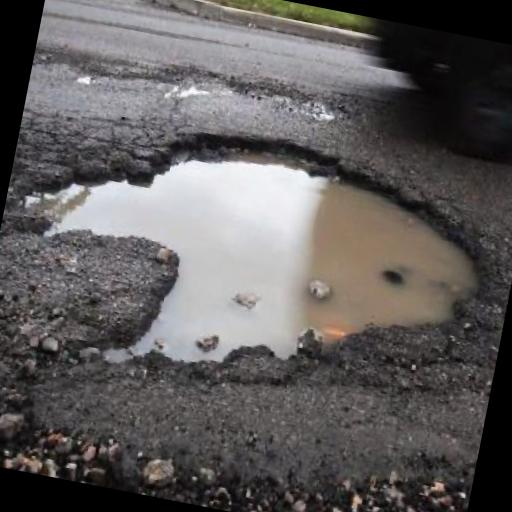pothole: (0, 83, 509, 436)
